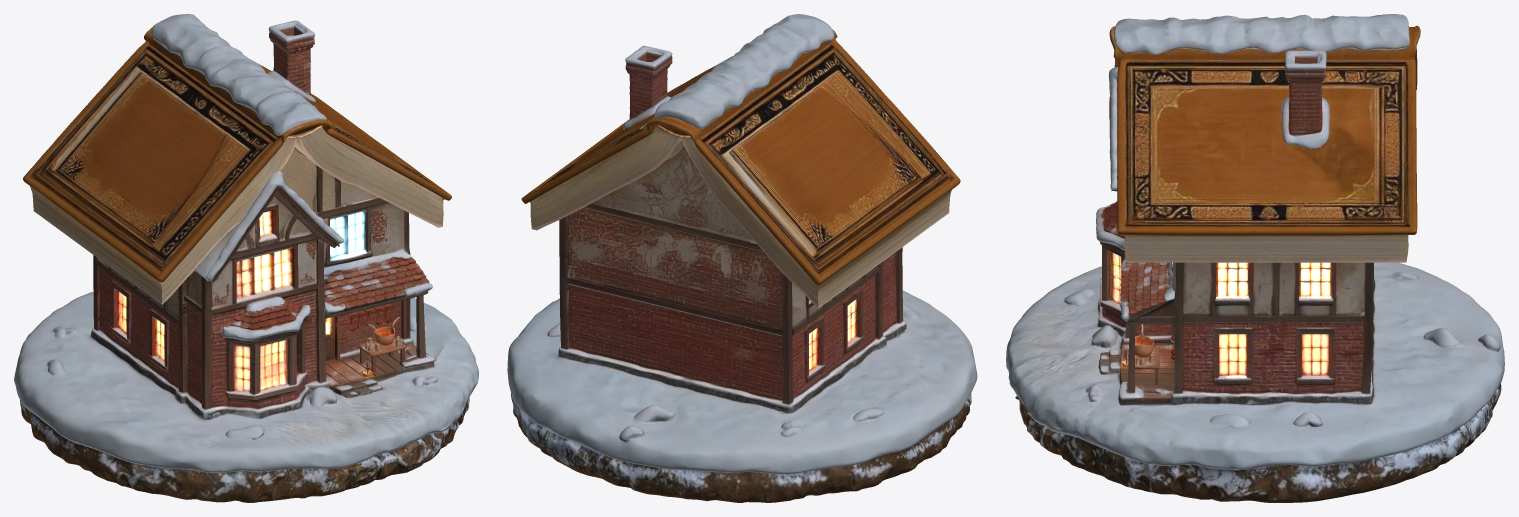
The model's file is told-after-supper.glb.
3 renders of one model, left to right at view 1: azimuth 30°, elevation 25°; view 2: azimuth 150°, elevation 25°; view 3: azimuth 270°, elevation 25°, orthographic. The views are drawn at different scales.
Parts seen in each view (by area): view 1: model; view 2: model; view 3: model.
Boxes of the visible parts, x1,y1,x2,y2 form: model: (14,14,478,502); model: (507,14,977,502); model: (1006,14,1504,502).
Size of the model in its own units: 1.9 by 1.6 by 1.88.
Materials: 1 (1 with a texture image).
